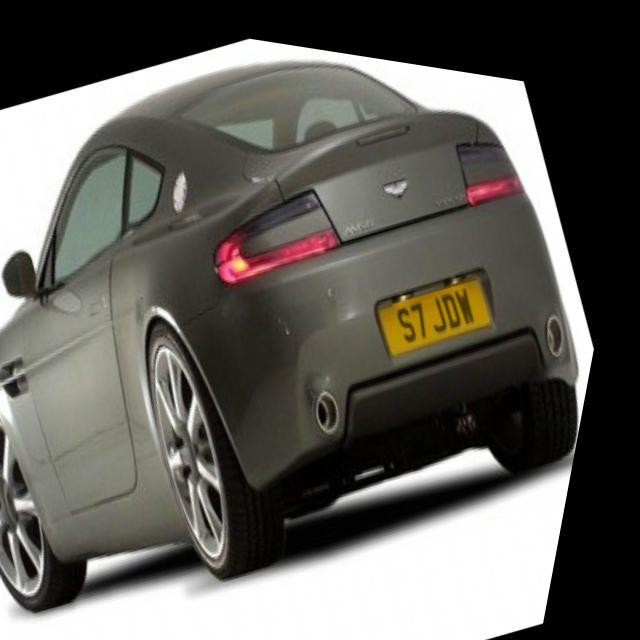license_plate: (376, 242, 515, 356)
